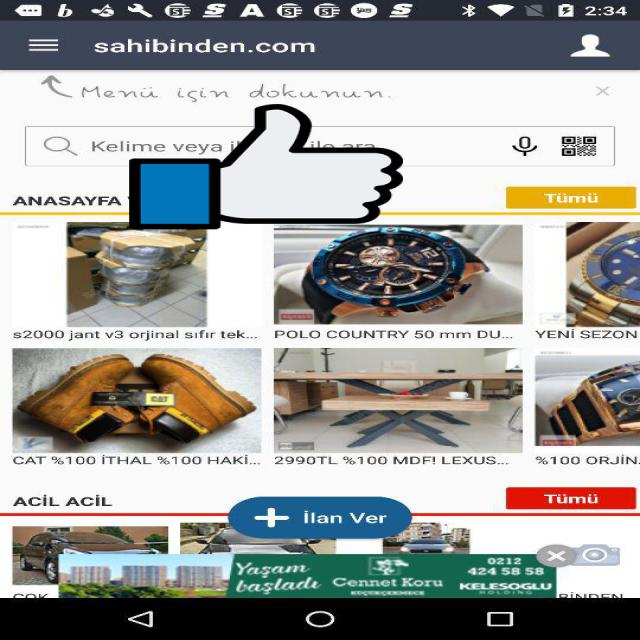privacy zuckering: (129, 101, 403, 232)
